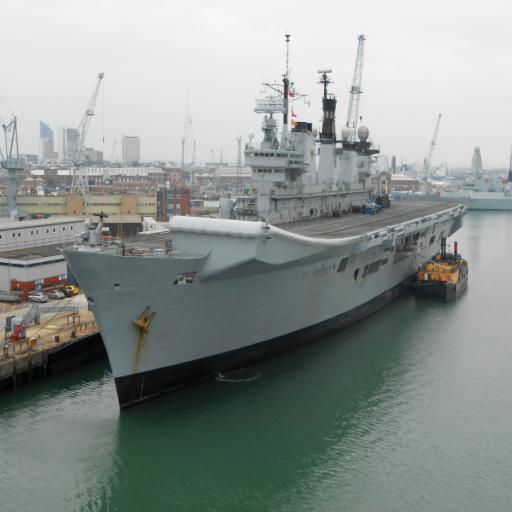Portanaves: (63, 31, 470, 425)
